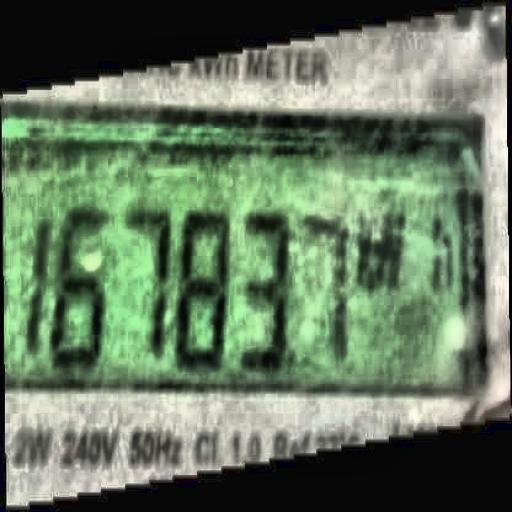DISPLAY_REGION: (0, 94, 505, 417)
SERIAL_REGION: (18, 200, 415, 373)
